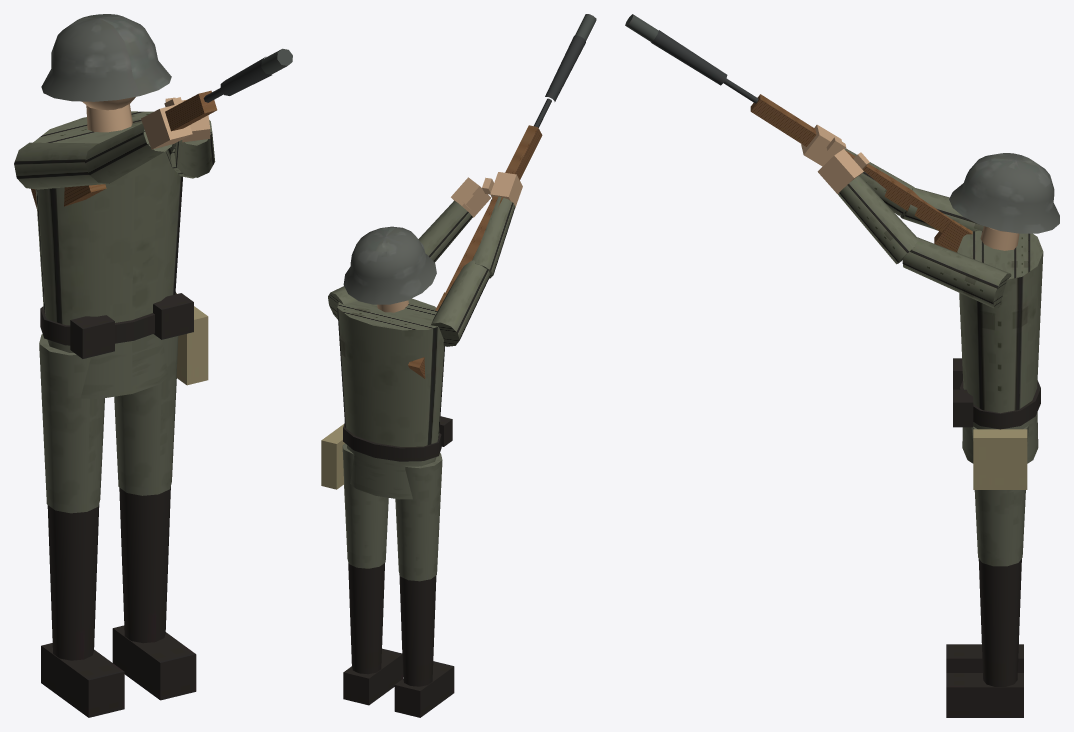
File: infantry-2.glb
The picture shows the model from 3 angles, left to right: view 1: azimuth 30°, elevation 25°; view 2: azimuth 150°, elevation 25°; view 3: azimuth 270°, elevation 25°; orthographic projection. The views are drawn at different scales.
Parts seen in each view (by area): view 1: body, shin_left, shin_right, head, leg_right, leg_left, forearm_right, rifle, arm_right, forearm_left; view 2: body, head, shin_right, shin_left, leg_right, leg_left, rifle, arm_right, forearm_right, forearm_left; view 3: body, shin_left, head, rifle, forearm_left, arm_left, leg_left, forearm_right, shin_right, arm_right.
Boxes of the visible parts, x1,y1,x2,y2 form: body: (33, 111, 208, 398); shin_left: (112, 486, 196, 700); shin_right: (41, 504, 124, 717); head: (41, 14, 171, 132); leg_right: (39, 334, 104, 513); leg_left: (114, 336, 178, 495); forearm_right: (85, 97, 192, 183); rifle: (31, 48, 292, 208); arm_right: (14, 142, 108, 189); forearm_left: (165, 97, 215, 177); body: (321, 298, 452, 499); head: (343, 226, 436, 312); shin_right: (394, 574, 454, 717); shin_left: (343, 563, 402, 705); leg_right: (395, 453, 442, 581); leg_left: (342, 443, 388, 568); rifle: (408, 14, 596, 378); arm_right: (431, 260, 490, 346); forearm_right: (472, 172, 522, 278); forearm_left: (418, 177, 490, 262); body: (953, 231, 1043, 489); shin_left: (946, 558, 1023, 717); head: (949, 153, 1059, 250); rifle: (625, 14, 972, 252); forearm_left: (817, 149, 917, 264); arm_left: (902, 237, 1011, 308); leg_left: (971, 425, 1028, 566); forearm_right: (801, 124, 915, 215); shin_right: (946, 644, 1023, 672); arm_right: (900, 188, 983, 231).
Size of the model in its own units: 0.5194 by 2.16 by 1.28.
Materials: 7 (7 with a texture image).
